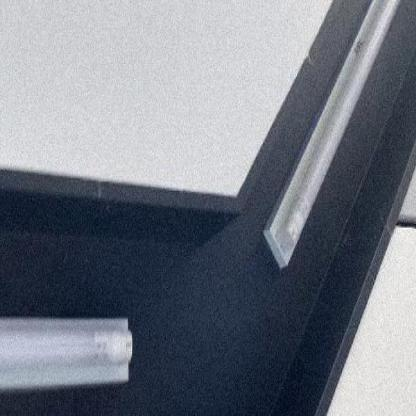light_off: (246, 0, 415, 286), (0, 225, 143, 415)
